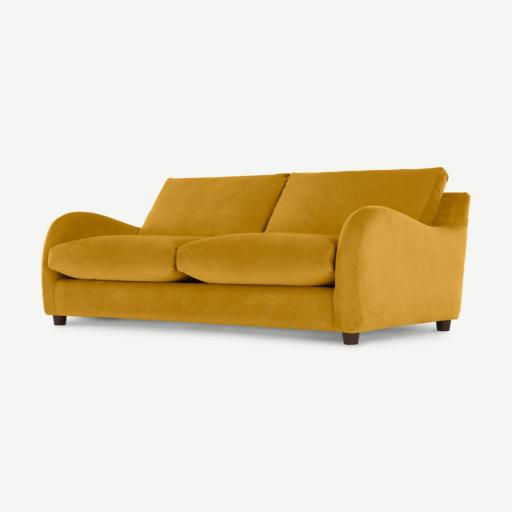back_cushion: (142, 168, 447, 236)
base: (54, 279, 336, 331)
left_arm: (333, 206, 467, 343), (435, 194, 468, 222)
legs: (343, 333, 358, 344), (54, 315, 66, 325), (438, 321, 449, 330)
right_arm: (42, 212, 139, 314)
seat_cushion: (50, 233, 337, 286)
two-seater: (0, 0, 511, 512)
